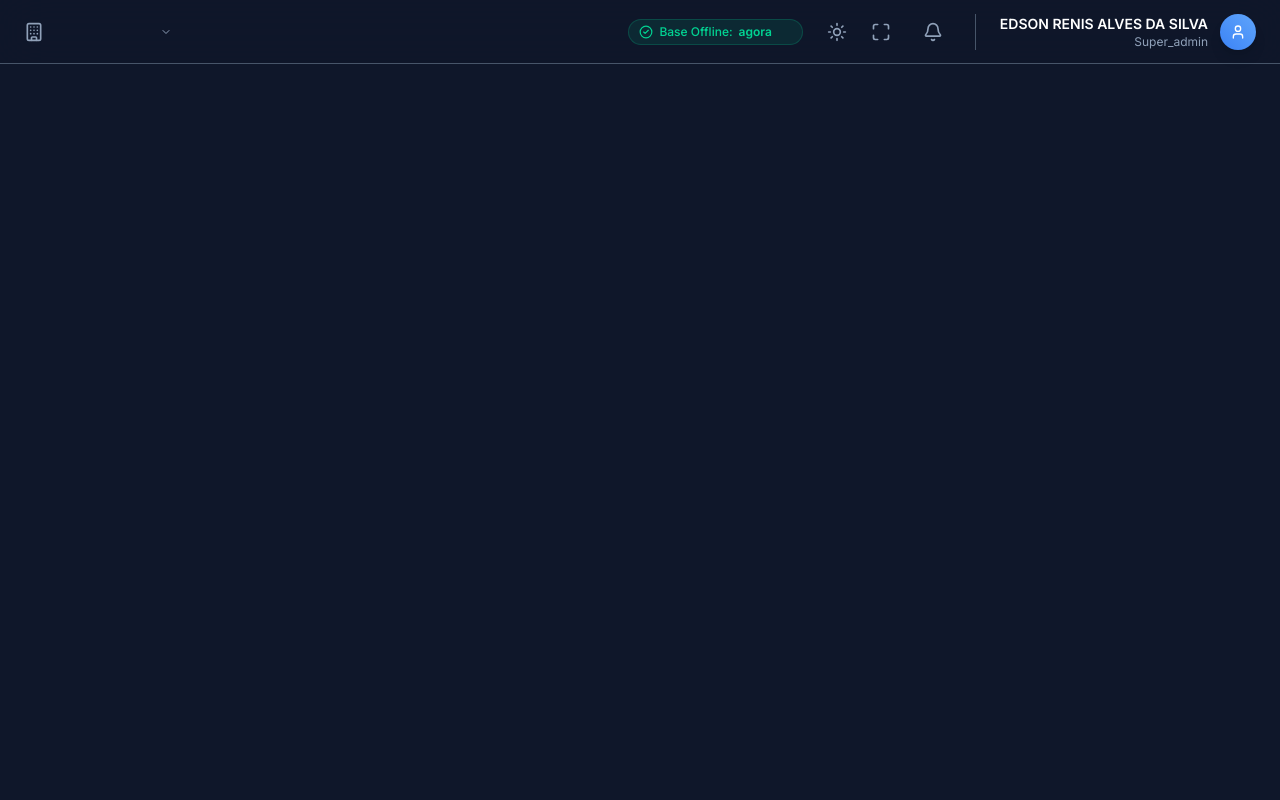
Test case: menu do usuário no Topbar › clique fora fecha o menu
Click the button titled "Minha conta": (1115, 32) [975,14,1256,50]
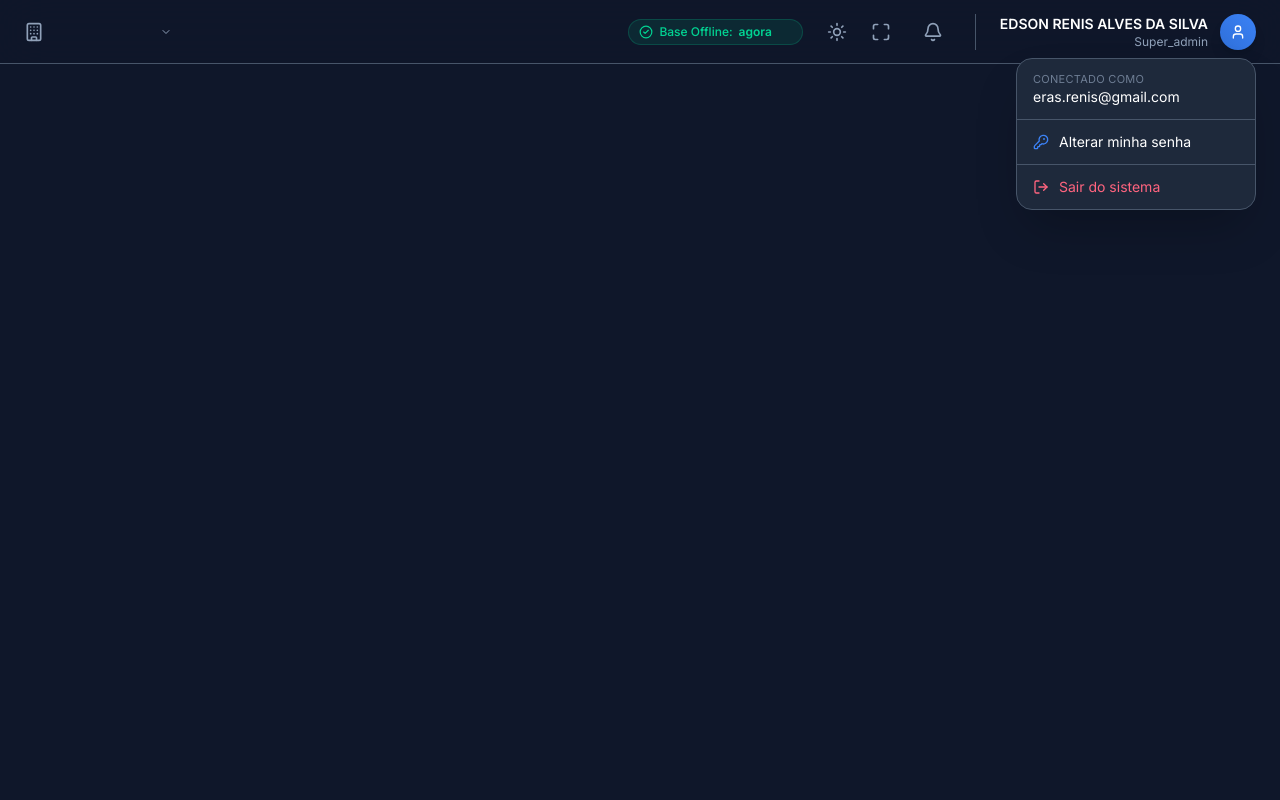
Press the mouse on the element that starts with "Base Offline:": (640, 400) [0,0,1279,799]
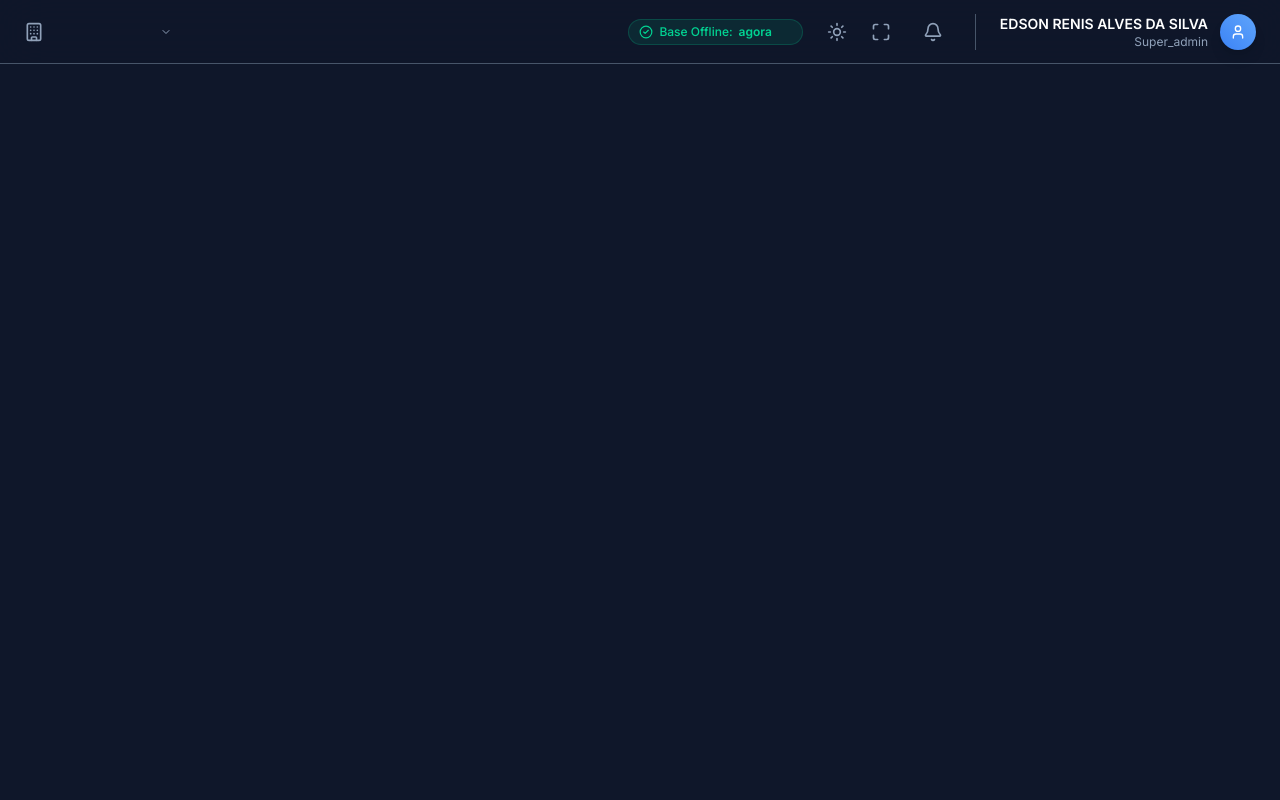
Check: the menu is gone
